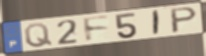2: (56, 19, 79, 46)
5: (113, 11, 138, 40)
F: (81, 14, 112, 44)
I: (152, 9, 161, 37)
P: (170, 6, 200, 35)
Q: (23, 22, 54, 49)
